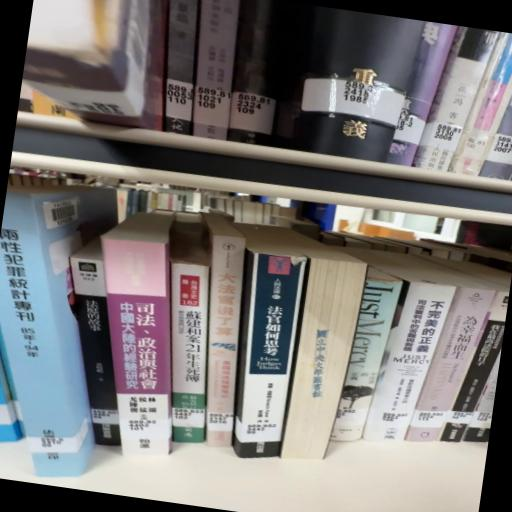backward: (281, 254, 370, 471)
book: (1, 172, 131, 480), (71, 214, 200, 462), (146, 212, 242, 456), (48, 237, 151, 452), (178, 218, 262, 457), (226, 252, 315, 469), (367, 277, 462, 453), (182, 1, 248, 141), (152, 1, 215, 136)
